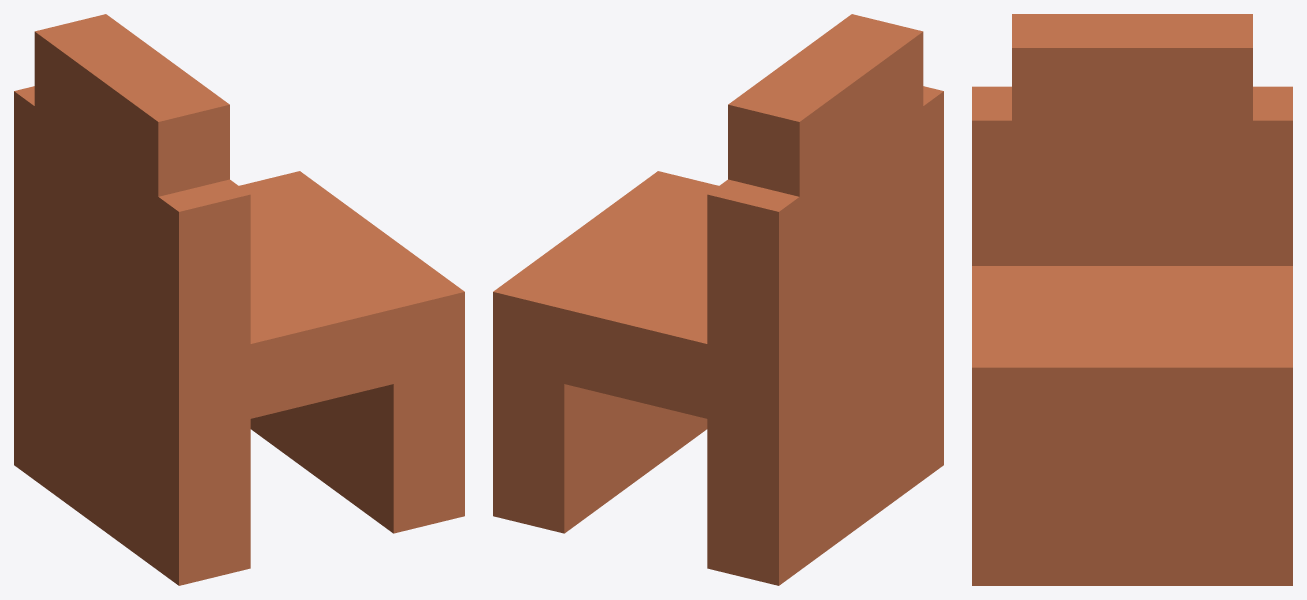
Rendered from wood-chair.obj.
3 views of the same model, side by side, from view 1: azimuth 30°, elevation 25°; view 2: azimuth 150°, elevation 25°; view 3: azimuth 270°, elevation 25° (orthographic). The views are drawn at different scales.
Bounding box in the file's own units: 4 × 6 × 4.
Materials: 1 (1 with a texture image).
